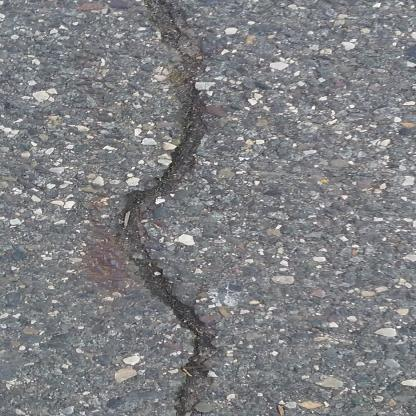Cracks: (121, 0, 221, 416)
